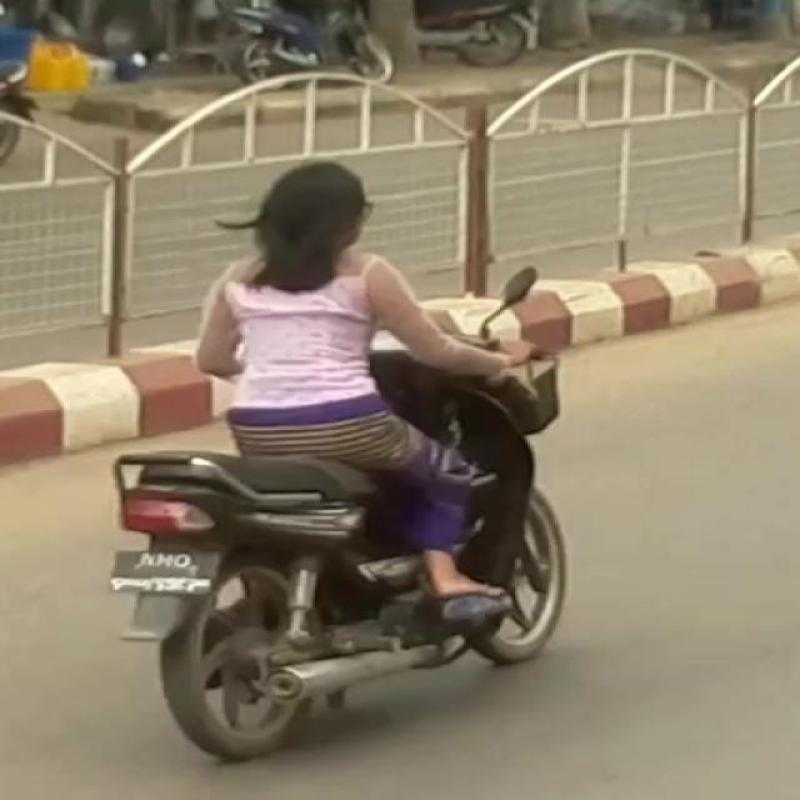nohelmet: (226, 148, 410, 260)
